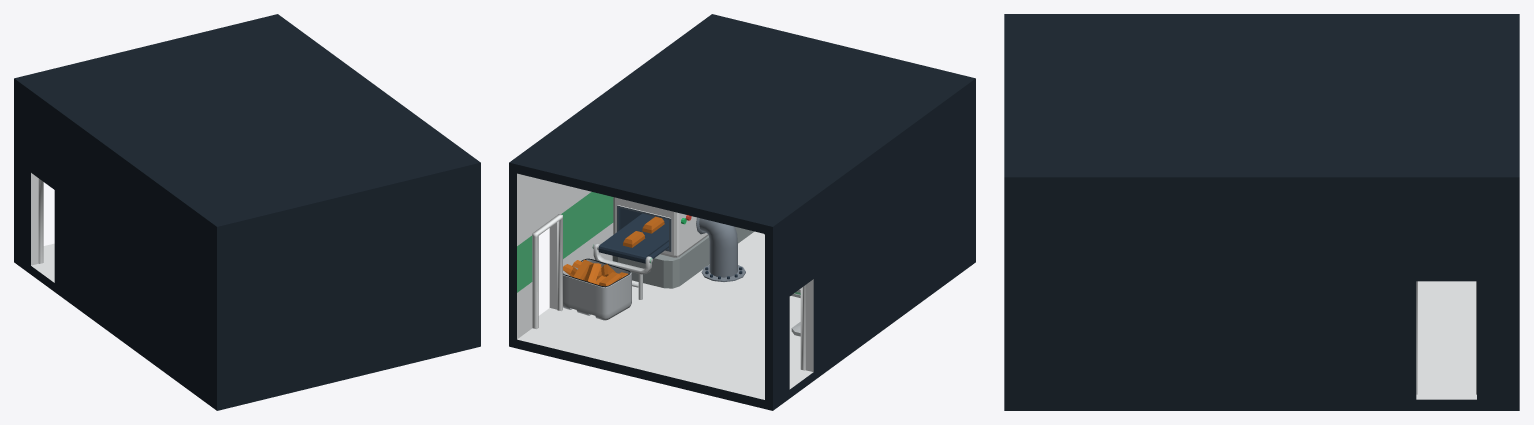
File: room_recycling.fbx
3 views of the same model, side by side, from view 1: azimuth 30°, elevation 25°; view 2: azimuth 150°, elevation 25°; view 3: azimuth 270°, elevation 25° (orthographic). The views are drawn at different scales.
Parts seen in each view (by area): view 1: Cube.018; view 2: Cube.018; view 3: Cube.018.
Boxes of the visible parts, left/top/right/bottom form: Cube.018: left=14, top=14, right=480, bottom=410; Cube.018: left=509, top=14, right=975, bottom=410; Cube.018: left=1004, top=14, right=1519, bottom=410.
Size of the model in its own units: 600 by 400 by 800.
